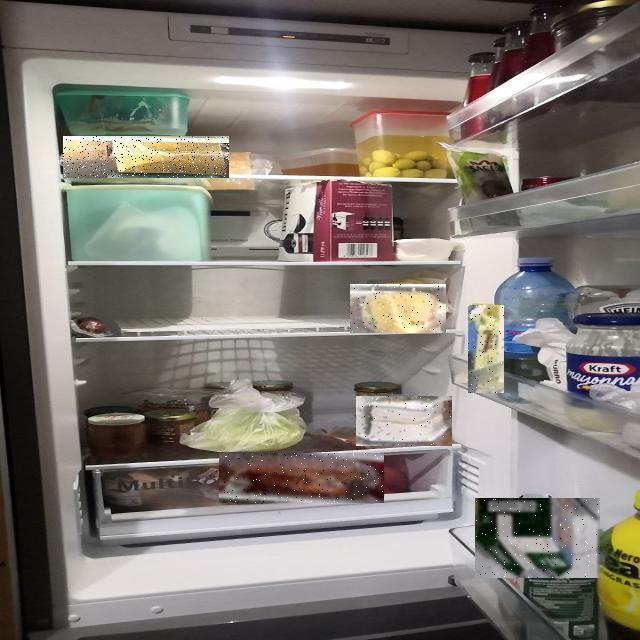Butter: (468, 305, 504, 393)
Carrot: (219, 453, 384, 503)
Cheese: (63, 136, 229, 178), (356, 396, 452, 446), (350, 284, 446, 333)
Milk: (476, 498, 602, 578)
